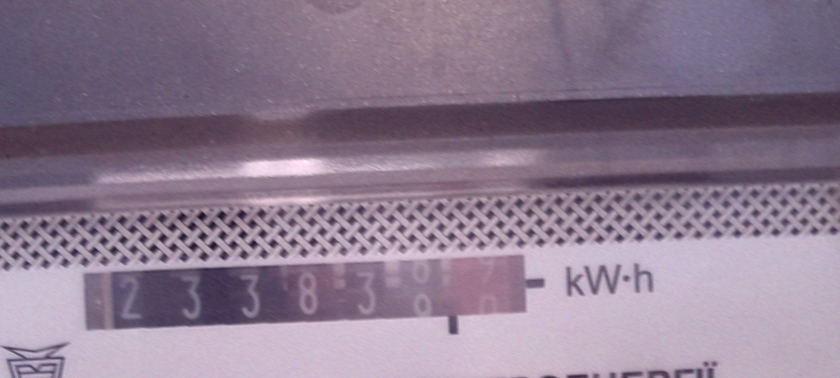0: (475, 289, 501, 315)
2: (115, 272, 144, 322)
3: (176, 271, 205, 322), (237, 270, 263, 321), (352, 267, 379, 316)
8: (294, 269, 321, 315), (406, 258, 435, 285)
9: (407, 288, 435, 318), (473, 254, 499, 283)
screen: (70, 240, 545, 354)
